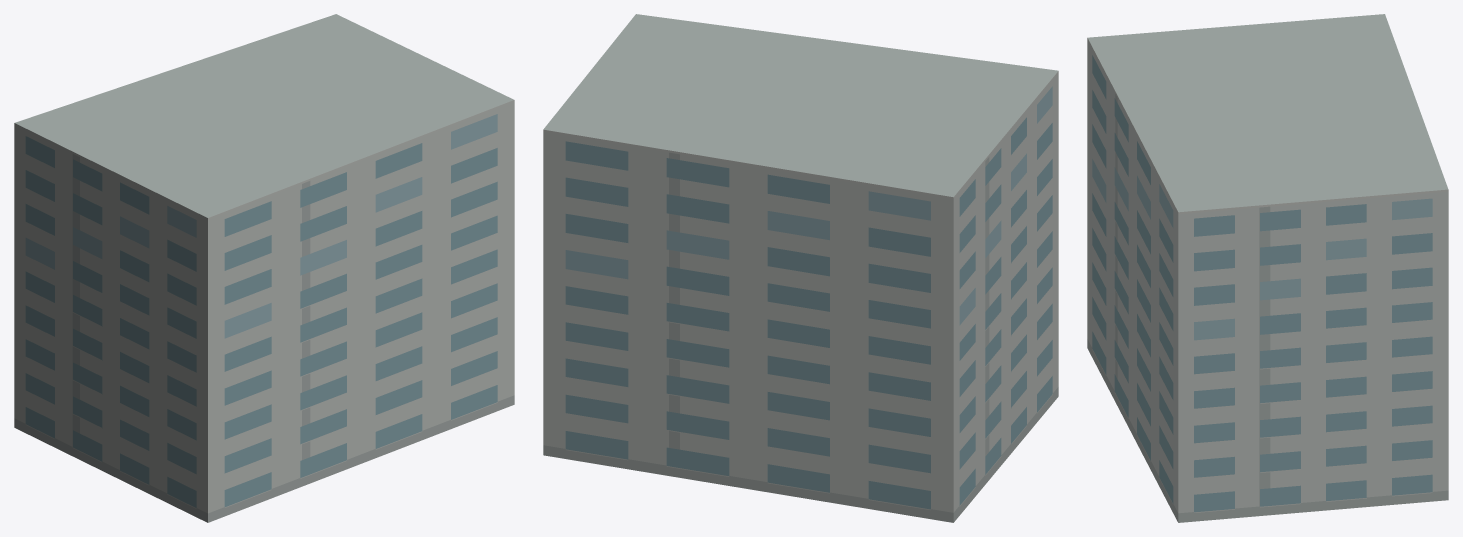
The model's file is residential-1e2ca62d-6ddc-49dd-a10f-3a47d34f911b.glb.
3 views of the same model, side by side, from view 1: azimuth 30°, elevation 25°; view 2: azimuth 150°, elevation 25°; view 3: azimuth 270°, elevation 25° (orthographic). The views are drawn at different scales.
Parts seen in each view (by area): view 1: residential-1e2ca62d-6ddc-49dd-a10f-3a47d34f911b.tmp; view 2: residential-1e2ca62d-6ddc-49dd-a10f-3a47d34f911b.tmp; view 3: residential-1e2ca62d-6ddc-49dd-a10f-3a47d34f911b.tmp.
Part boxes in pixels (x1,y1,x2,y2): residential-1e2ca62d-6ddc-49dd-a10f-3a47d34f911b.tmp: [14, 14, 514, 522]; residential-1e2ca62d-6ddc-49dd-a10f-3a47d34f911b.tmp: [543, 14, 1058, 522]; residential-1e2ca62d-6ddc-49dd-a10f-3a47d34f911b.tmp: [1087, 14, 1448, 522].
Bounding box in the file's own units: 49.28 × 36 × 37.93.
